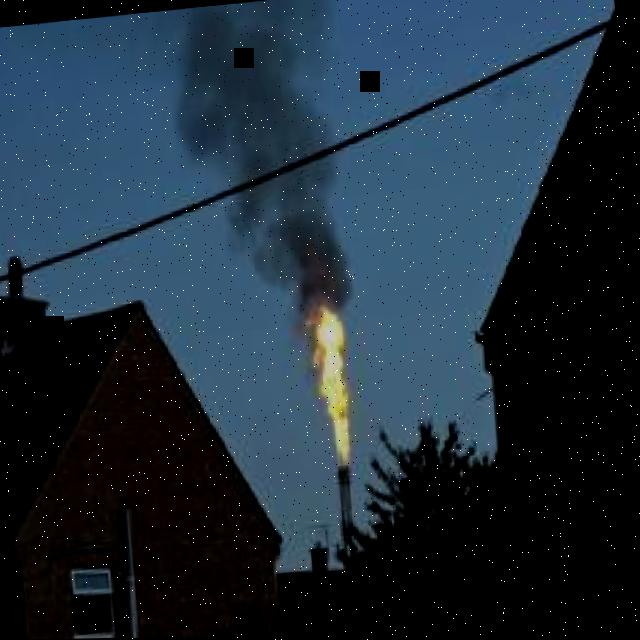fire: (317, 308, 350, 465)
smoke: (174, 10, 337, 253), (254, 211, 352, 346), (208, 0, 330, 68)
